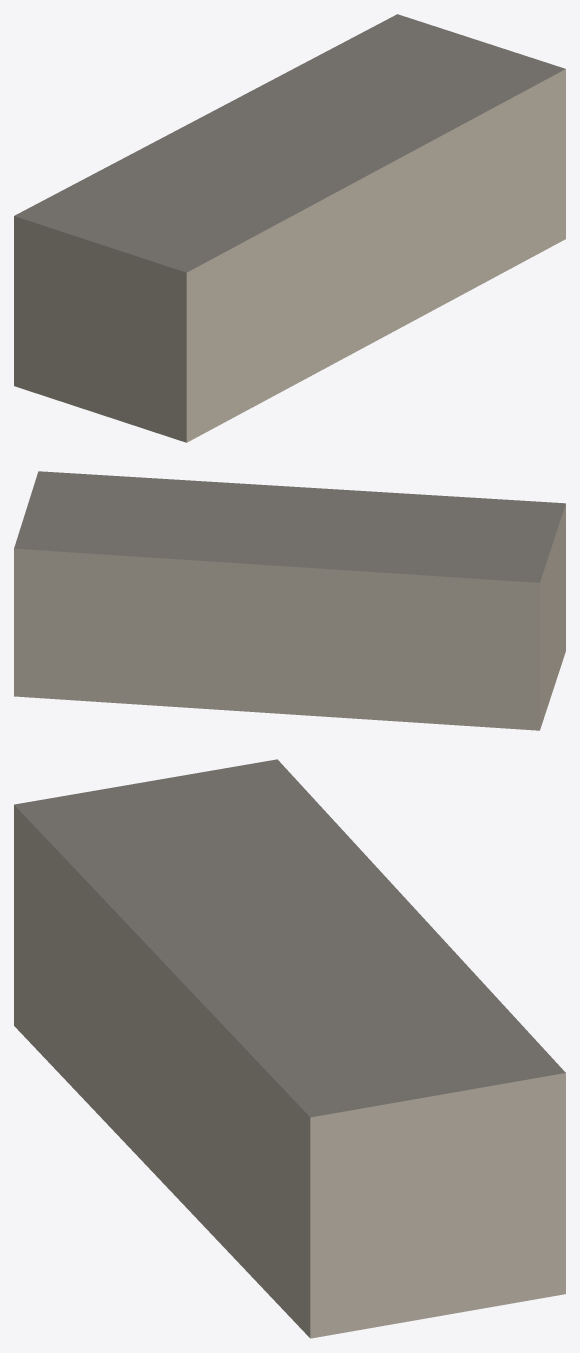
3 renders of one model, top to bottom at view 1: azimuth 30°, elevation 25°; view 2: azimuth 150°, elevation 25°; view 3: azimuth 270°, elevation 25°, orthographic. The views are drawn at different scales.
Visible parts, largest first — view 1: HP-w446959037; view 2: HP-w446959037; view 3: HP-w446959037.
Boxes of the visible parts, bbox=[...] form: HP-w446959037: bbox=[14, 14, 565, 442]; HP-w446959037: bbox=[14, 471, 565, 730]; HP-w446959037: bbox=[14, 759, 565, 1338].
Size of the model in its own units: 52.09 by 15 by 33.93.
